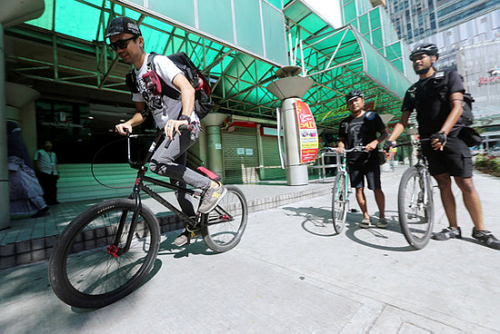bikerider: (37, 14, 264, 296), (323, 86, 397, 255)
